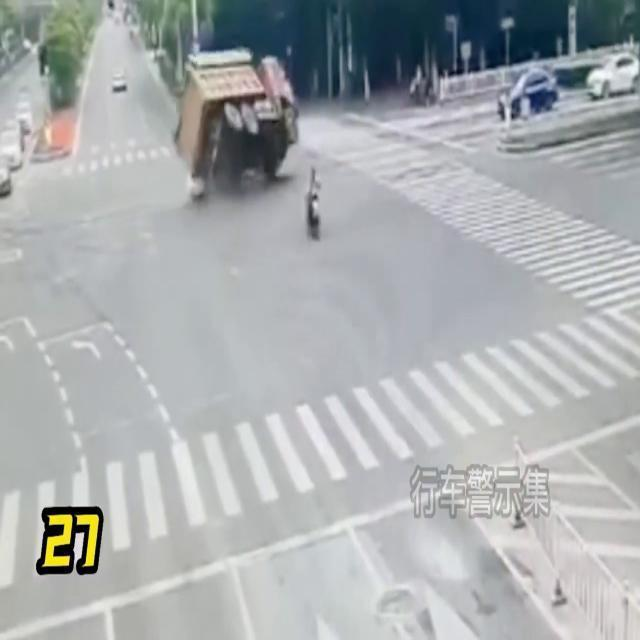accident: (172, 51, 294, 196)
